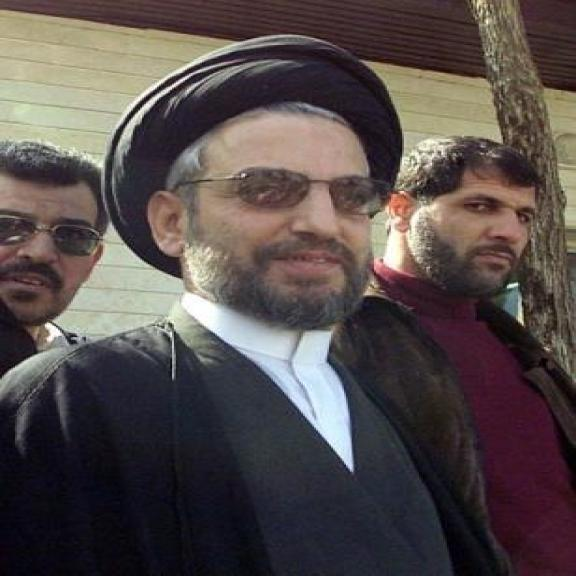face: (136, 129, 390, 328), (390, 162, 542, 289), (0, 169, 109, 320)
